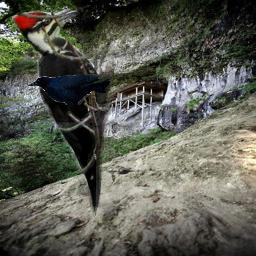Crow: (26, 74, 110, 105)
Woodpecker: (12, 5, 114, 224)
